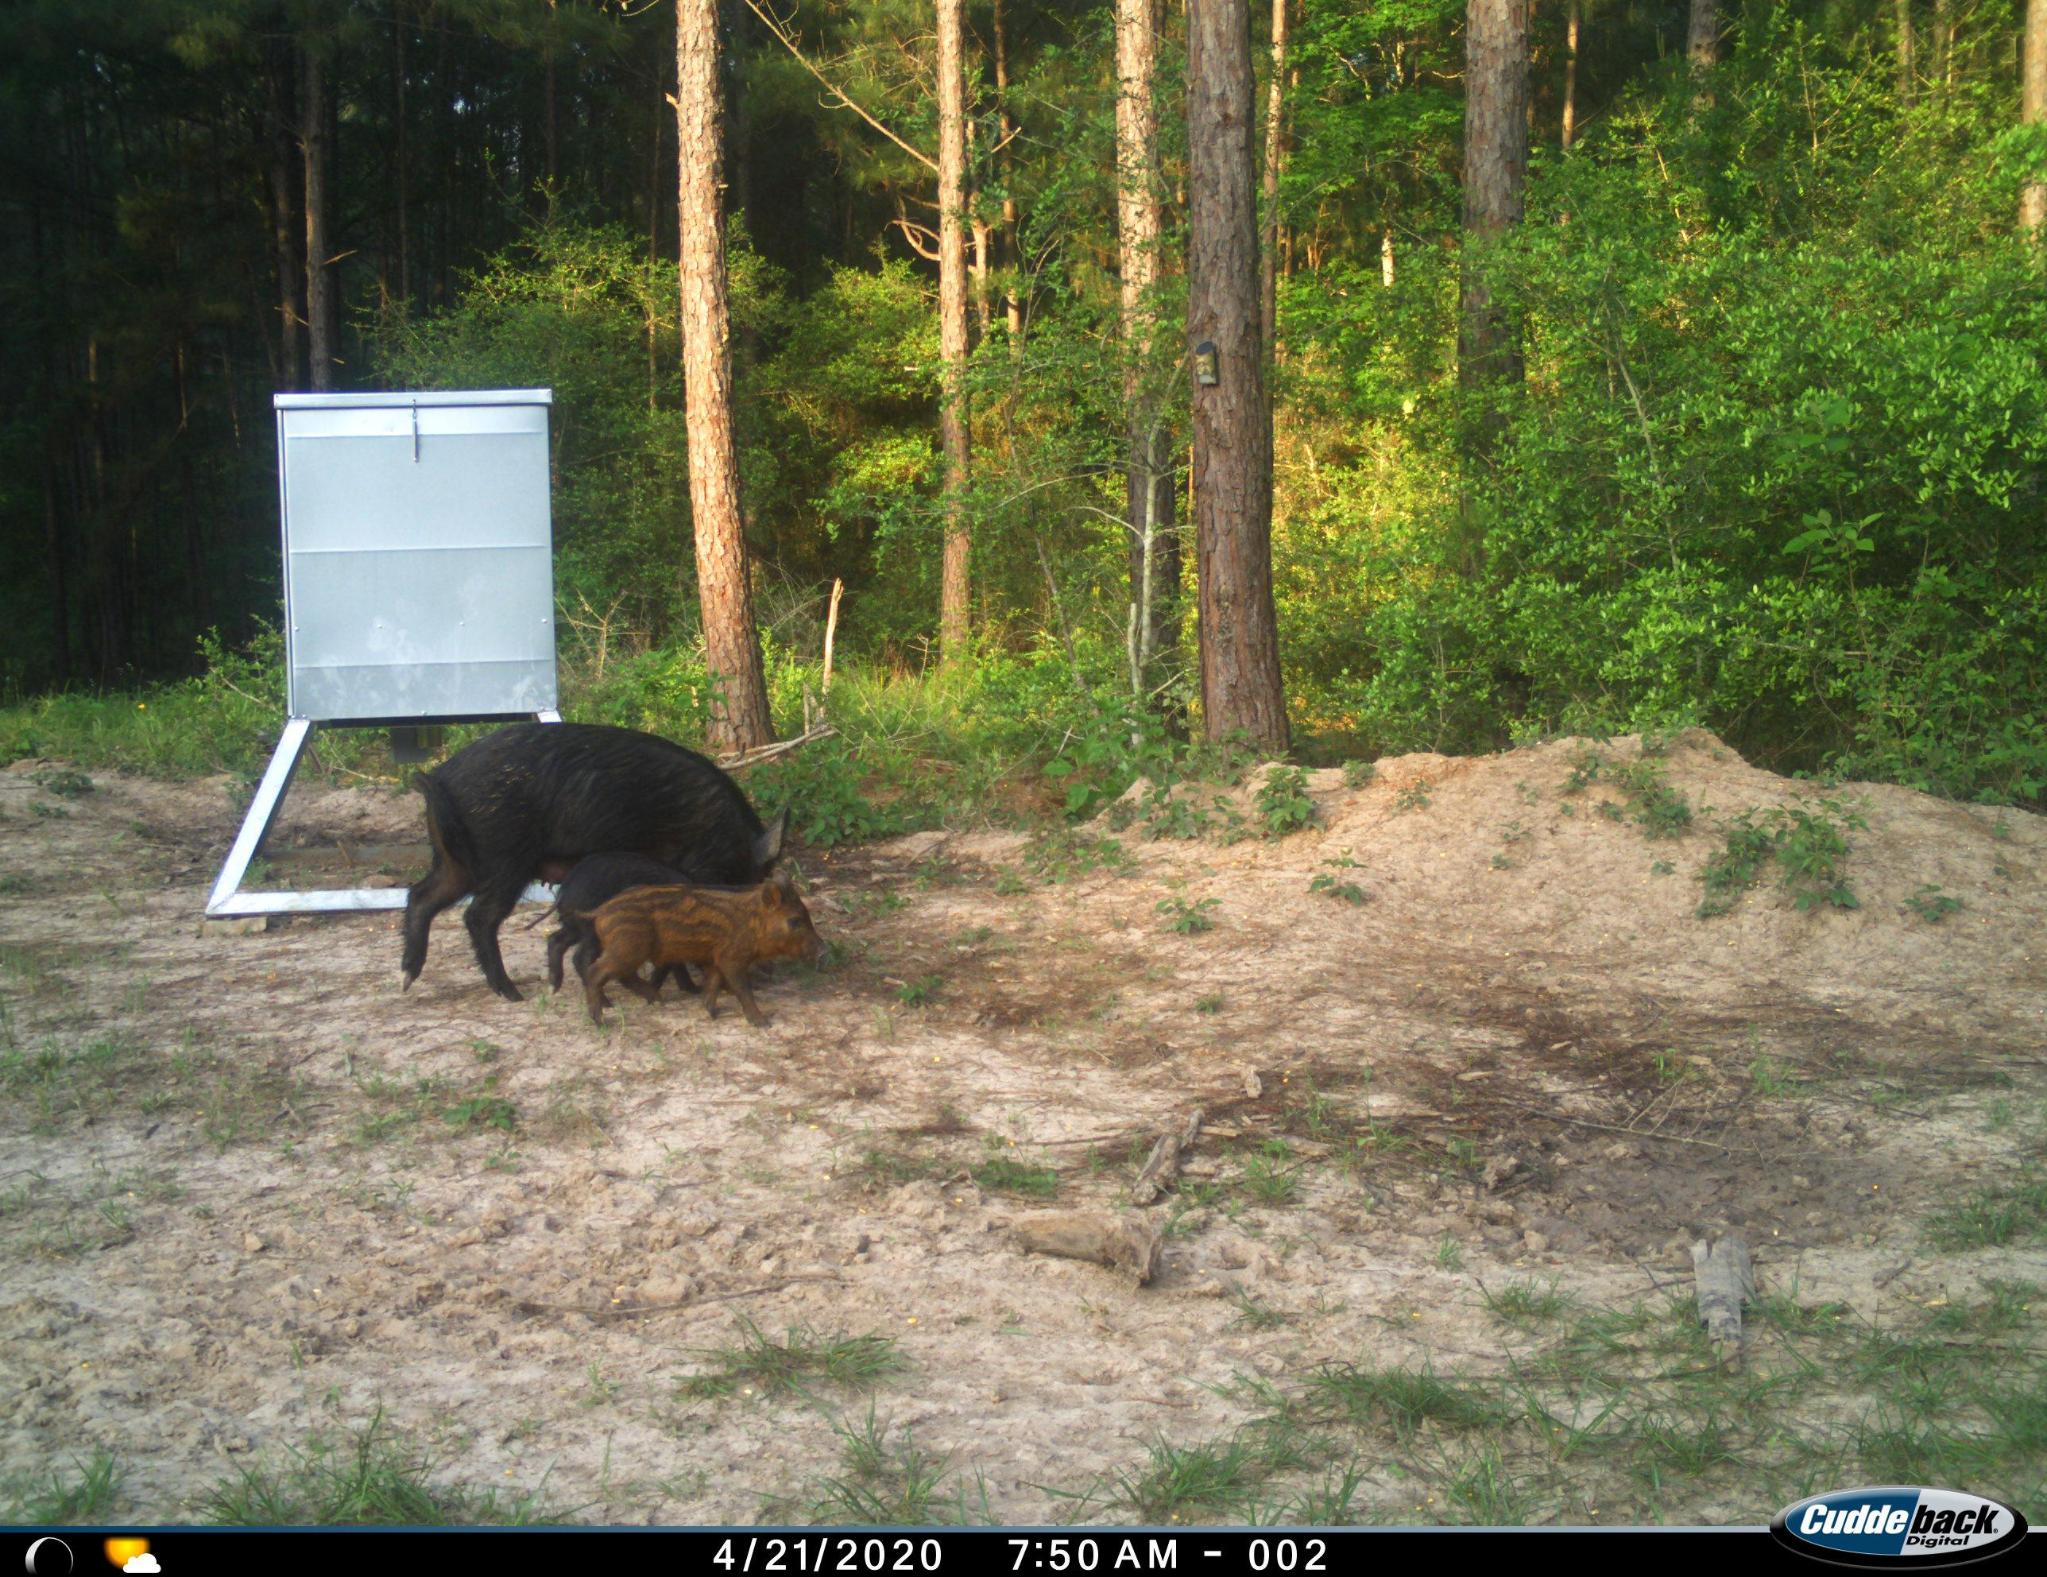Hog: (394, 717, 800, 991), (580, 873, 841, 1035)
